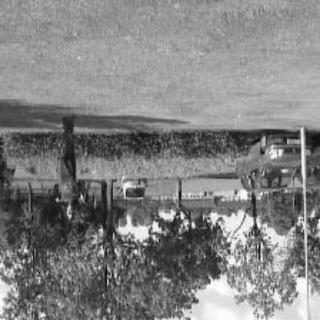other: (53, 161, 83, 207)
